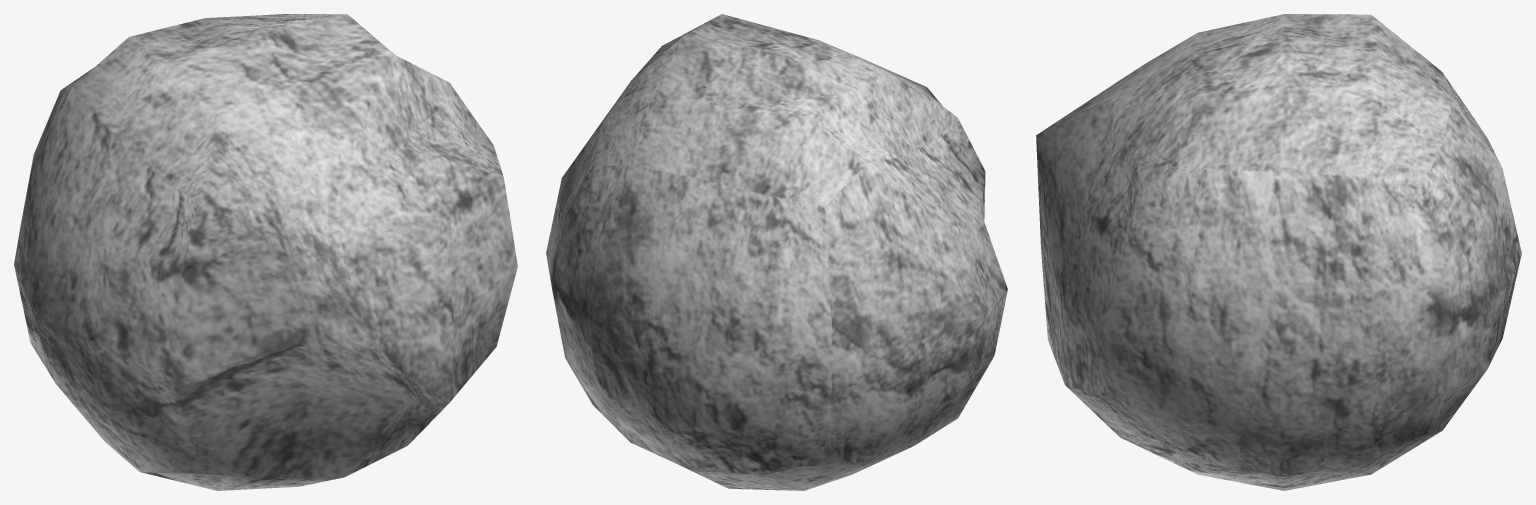
The model's file is Rock.obj.
3 renders of one model, left to right at view 1: azimuth 30°, elevation 25°; view 2: azimuth 150°, elevation 25°; view 3: azimuth 270°, elevation 25°, orthographic. The views are drawn at different scales.
Visible parts, largest first — view 1: Quad_Sphere; view 2: Quad_Sphere; view 3: Quad_Sphere.
Boxes of the visible parts, x1,y1,x2,y2 form: Quad_Sphere: (14, 14, 517, 490); Quad_Sphere: (546, 14, 1007, 490); Quad_Sphere: (1036, 14, 1521, 490).
Bounding box in the file's own units: 1.03 × 1.01 × 1.02.
Materials: 1 (1 with a texture image).
